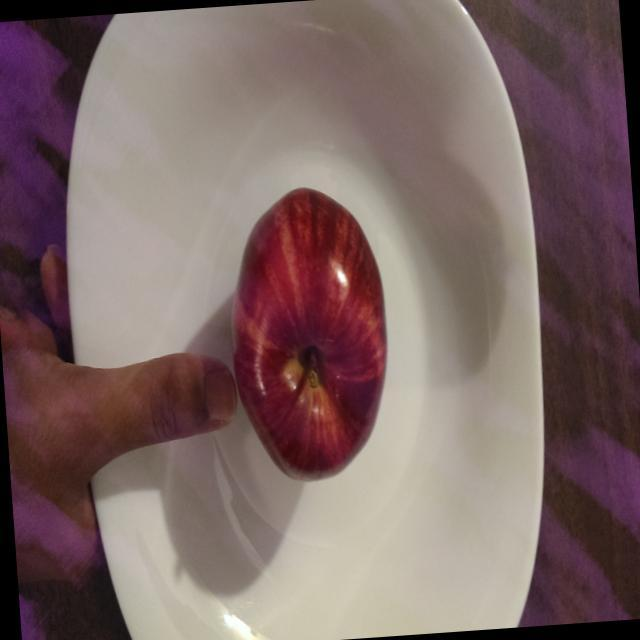Apple: (218, 174, 402, 490)
Finger: (128, 342, 242, 457)
